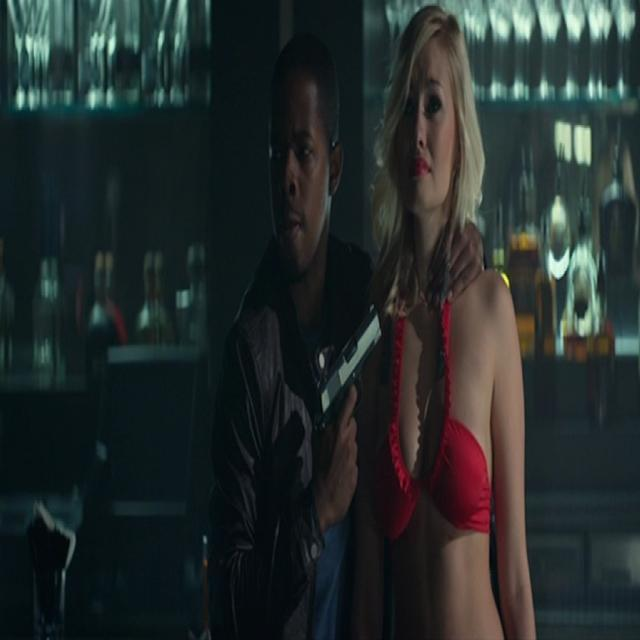gun-knife-thesis - v11 Yolov5 augmented: (306, 288, 386, 487)
